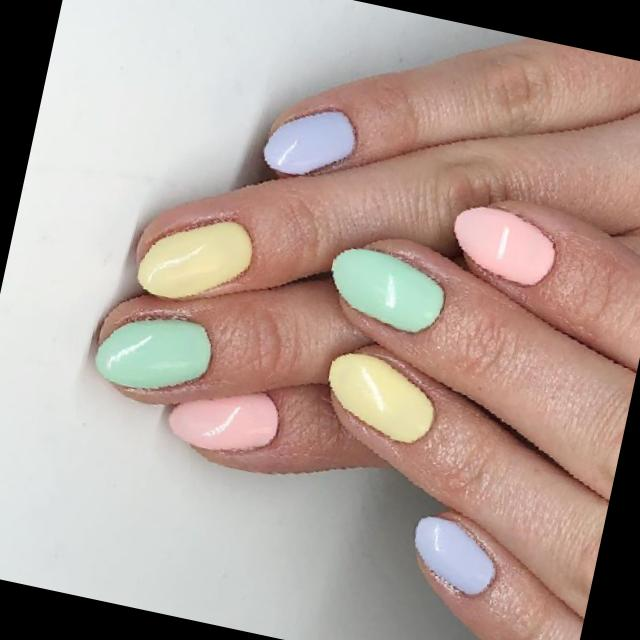Nail: (328, 353, 433, 442), (331, 248, 442, 332), (136, 221, 252, 298), (94, 318, 210, 389), (453, 206, 554, 285), (167, 392, 277, 450), (414, 516, 494, 595), (263, 110, 354, 175)
